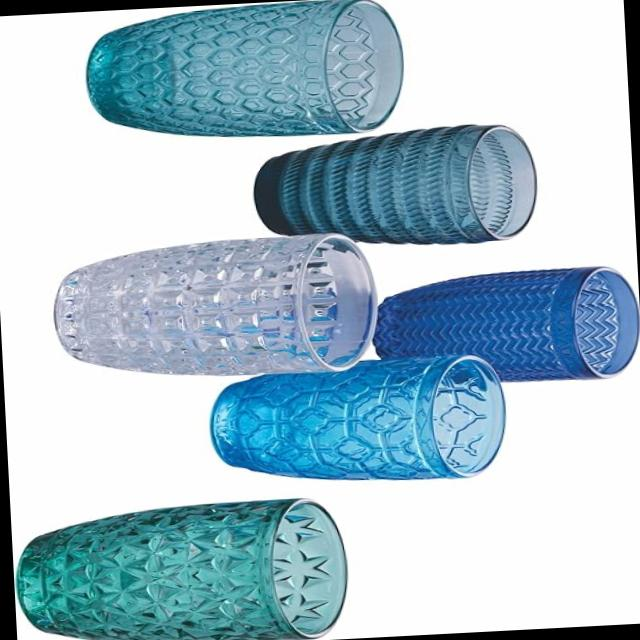glass: (34, 225, 372, 398), (9, 484, 378, 640), (44, 0, 423, 151), (180, 354, 520, 502), (240, 100, 543, 264), (368, 255, 610, 398)
